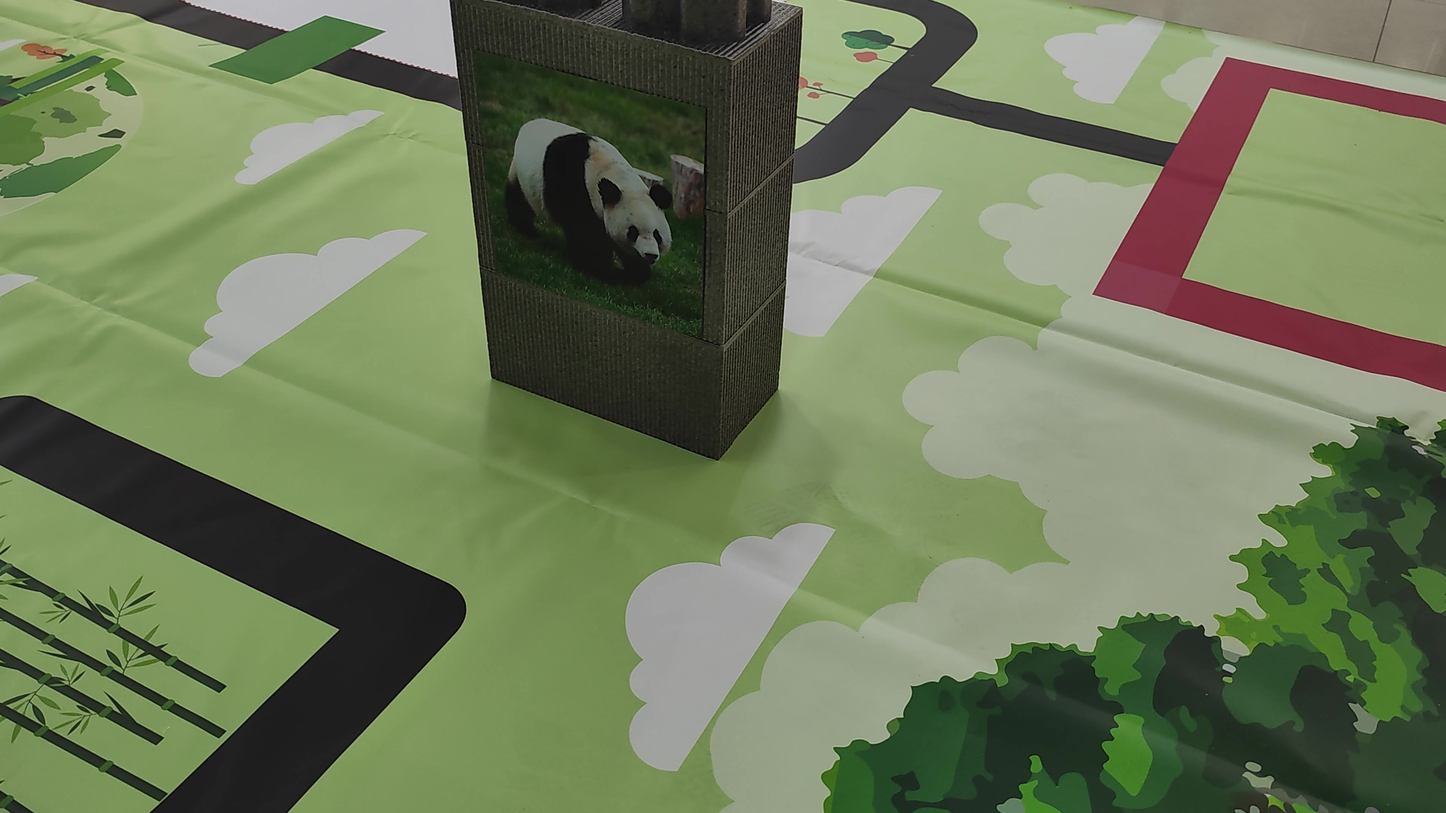panda: (481, 76, 705, 296)
